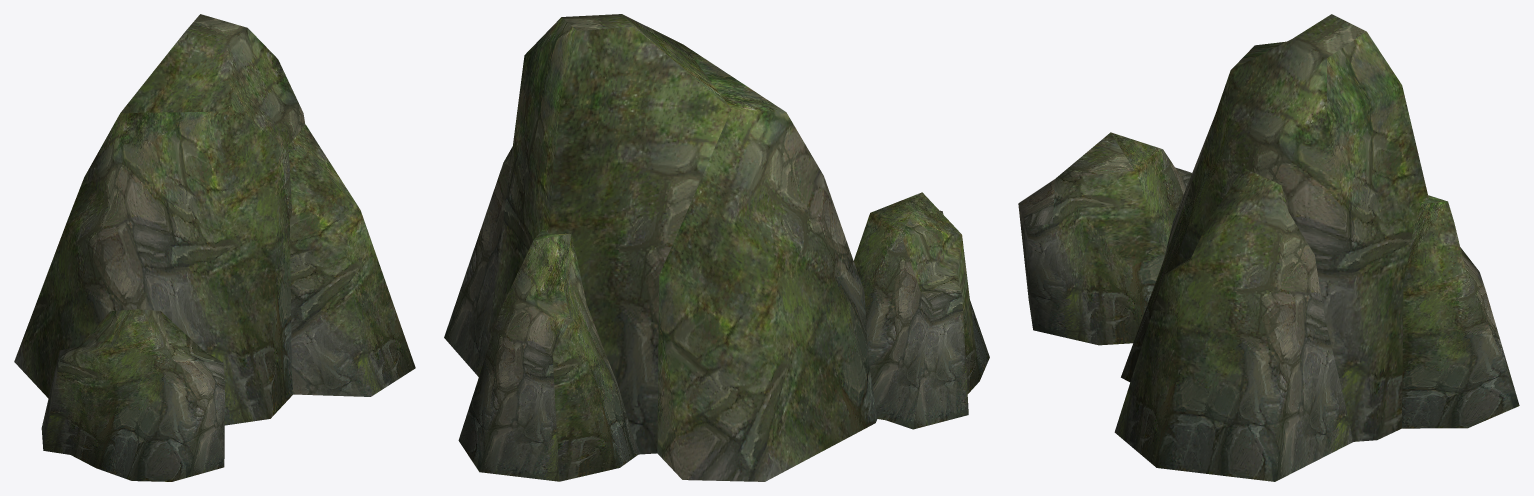
The model's file is s7_3d_shitou01.FBX.
3 renders of one model, left to right at view 1: azimuth 30°, elevation 25°; view 2: azimuth 150°, elevation 25°; view 3: azimuth 270°, elevation 25°, orthographic. The views are drawn at different scales.
Parts seen in each view (by area): view 1: Box001; view 2: Box001; view 3: Box001.
Boxes of the visible parts, x1,y1,x2,y2 form: Box001: [14, 14, 415, 481]; Box001: [444, 14, 989, 481]; Box001: [1018, 14, 1519, 481].
Bounding box in the file's own units: 13.44 × 10.5 × 13.01.
Materials: 1 (1 with a texture image).
